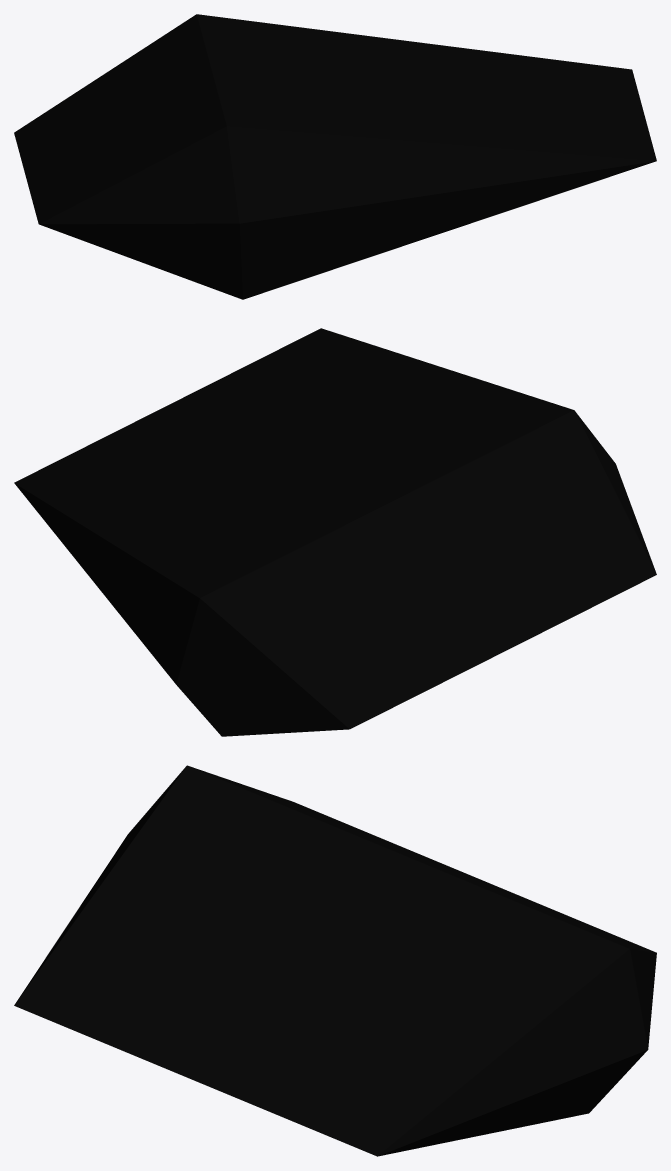
Rendered from ama_collectable_scrap_08.glb.
3 renders of one model, top to bottom at view 1: azimuth 30°, elevation 25°; view 2: azimuth 150°, elevation 25°; view 3: azimuth 270°, elevation 25°, orthographic. The views are drawn at different scales.
Visible parts, largest first — view 1: shipScrapPart_08; view 2: shipScrapPart_08; view 3: shipScrapPart_08.
Part boxes in pixels (x1,y1,x2,y2): shipScrapPart_08: (14,14,656,299); shipScrapPart_08: (14,328,656,736); shipScrapPart_08: (14,765,656,1156).
Size of the model in its own units: 0.4454 by 0.1647 by 0.3732.
1 material, 1 textured.
